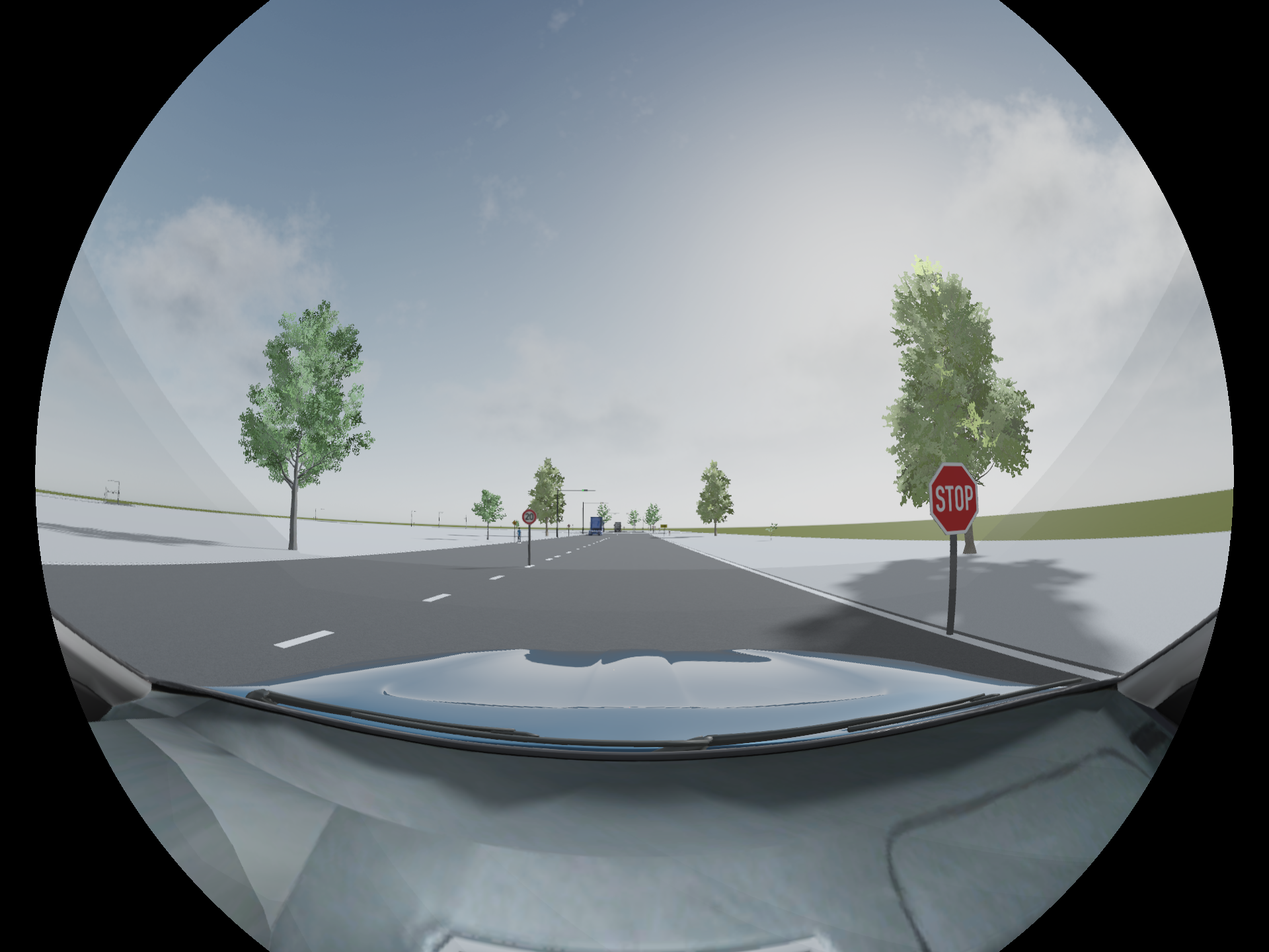Speed Limit 20: (521, 508, 536, 525)
Stop: (931, 464, 979, 535)
